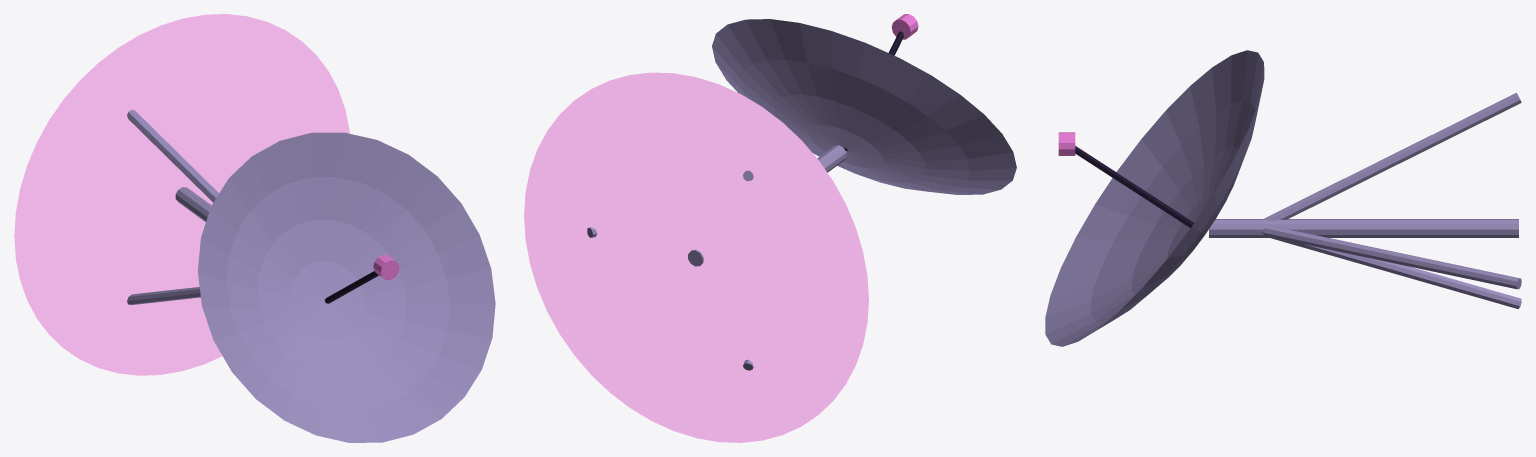
File: antenne.glb
3 renders of one model, left to right at view 1: azimuth 30°, elevation 25°; view 2: azimuth 150°, elevation 25°; view 3: azimuth 270°, elevation 25°, orthographic. The views are drawn at different scales.
Visible parts, largest first — view 1: parabole, lueur, pied1, pied2, mat, source; view 2: lueur, parabole, mat, source; view 3: parabole, mat, pied1, pied0, pied2, bras.
Boxes of the visible parts, bbox=[...] form: parabole: bbox=[197, 132, 495, 442]; lueur: bbox=[14, 14, 349, 375]; pied1: bbox=[127, 109, 218, 202]; pied2: bbox=[127, 287, 200, 304]; mat: bbox=[175, 187, 211, 221]; source: bbox=[373, 255, 399, 279]; lueur: bbox=[524, 72, 868, 442]; parabole: bbox=[712, 19, 1016, 194]; mat: bbox=[688, 145, 846, 266]; source: bbox=[891, 14, 918, 39]; parabole: bbox=[1045, 50, 1264, 346]; mat: bbox=[1209, 219, 1518, 237]; pied1: bbox=[1263, 93, 1521, 220]; pied0: bbox=[1261, 226, 1521, 289]; pied2: bbox=[1270, 238, 1521, 309]; bras: bbox=[1075, 146, 1193, 227].
Bounding box in the file's own units: 3.6 × 3.6 × 4.
